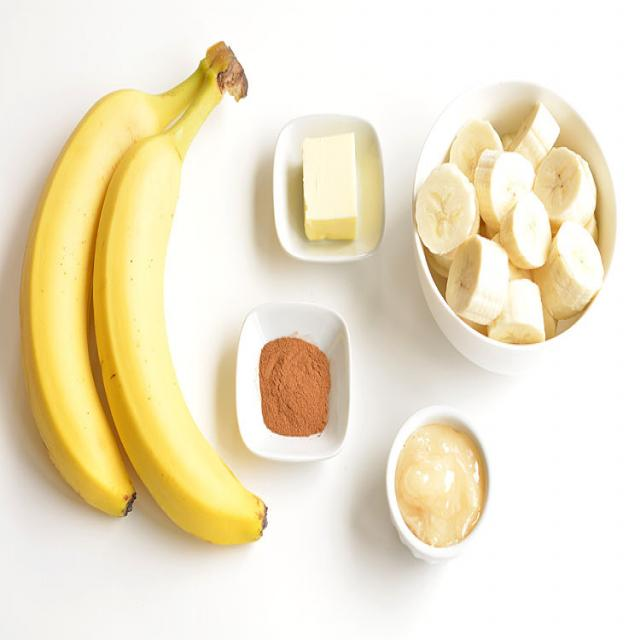Condensed Milk: (381, 409, 506, 570)
banana: (17, 41, 270, 564), (405, 86, 626, 367)
butter: (272, 100, 392, 276)
cocoa: (222, 290, 358, 471)
